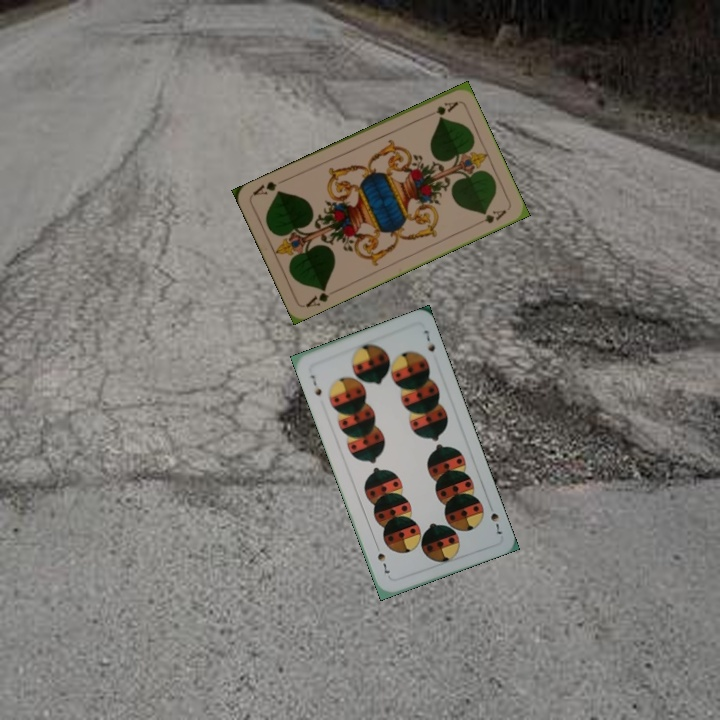GA: (422, 98, 461, 120), (301, 284, 332, 310)
S7: (484, 499, 505, 537), (306, 371, 324, 398)
